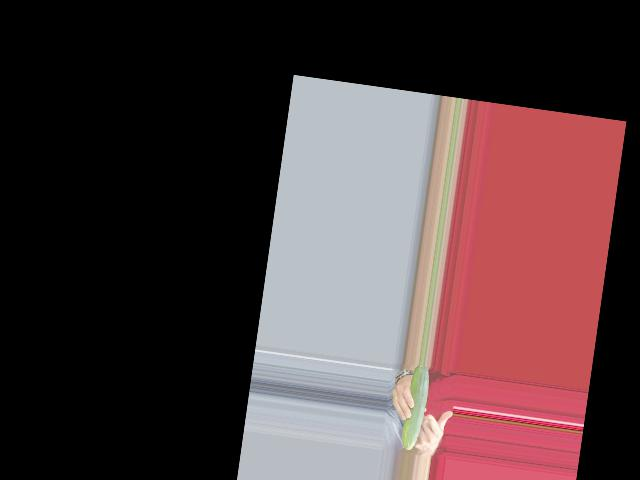cucumber: (399, 363, 431, 451)
